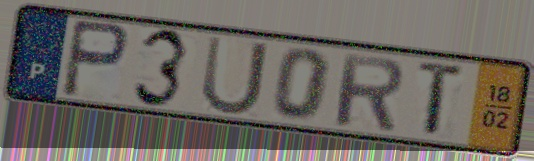0: (270, 45, 333, 124)
3: (128, 27, 200, 111)
P: (58, 16, 132, 101)
R: (332, 50, 407, 133)
T: (415, 58, 469, 140)
U: (198, 33, 272, 118)
